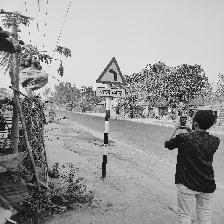Left-Turn: (95, 58, 128, 98)
